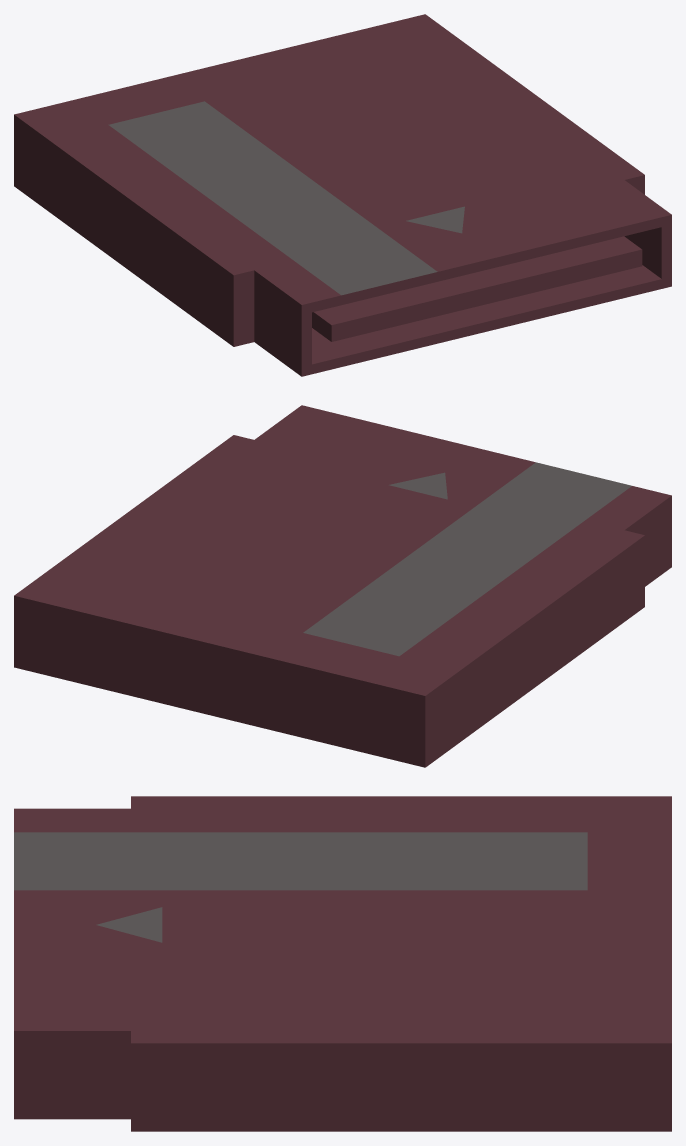
Rendered from cartridge-game-b.fbx.
3 views of the same model, one above another, from view 1: azimuth 30°, elevation 25°; view 2: azimuth 150°, elevation 25°; view 3: azimuth 270°, elevation 25° (orthographic). The views are drawn at different scales.
Visible parts, largest first — view 1: cartridge-game-b; view 2: cartridge-game-b; view 3: cartridge-game-b.
Boxes of the visible parts, x1=… form: cartridge-game-b: x1=14, y1=14, x2=671, y2=376; cartridge-game-b: x1=14, y1=405, x2=671, y2=767; cartridge-game-b: x1=14, y1=796, x2=671, y2=1131.
Size of the model in its own units: 0.132 by 0.022 by 0.1485.
